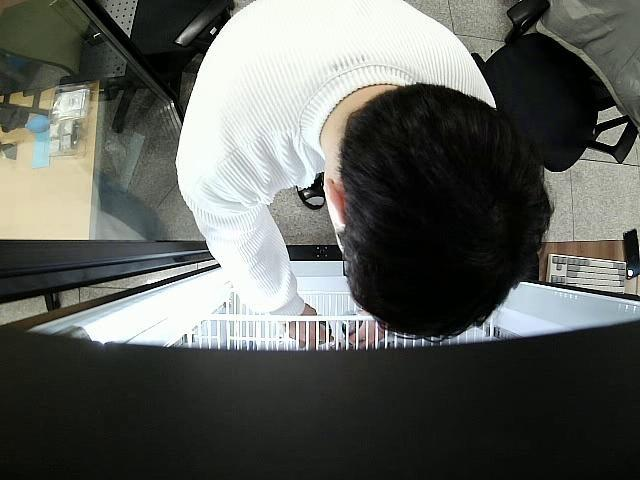12_chilsungCider: (342, 319, 362, 335), (319, 320, 332, 344)
